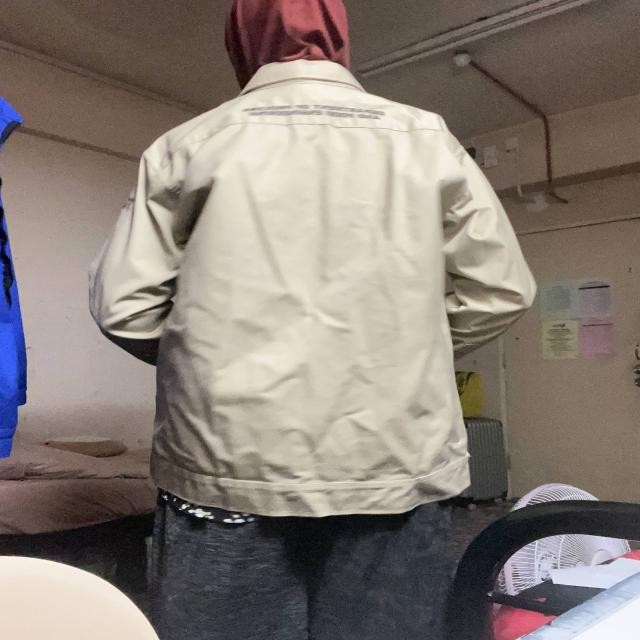person_without_labcoat: (89, 0, 536, 640)
